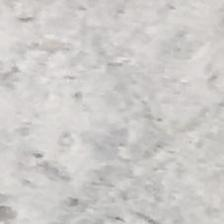Non_Crack: (18, 22, 210, 196)
